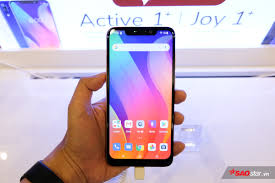vsmart: (97, 23, 177, 171)
